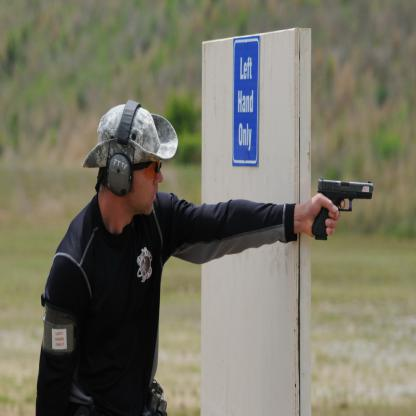Handgun: (311, 177, 373, 240)
